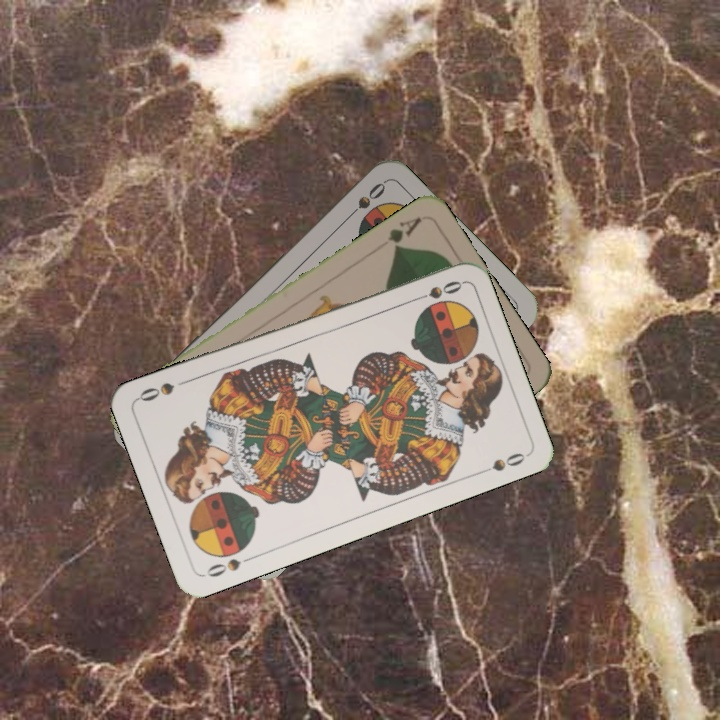GA: (383, 212, 425, 253)
SO: (341, 178, 388, 224), (407, 276, 465, 305), (200, 552, 257, 580)
